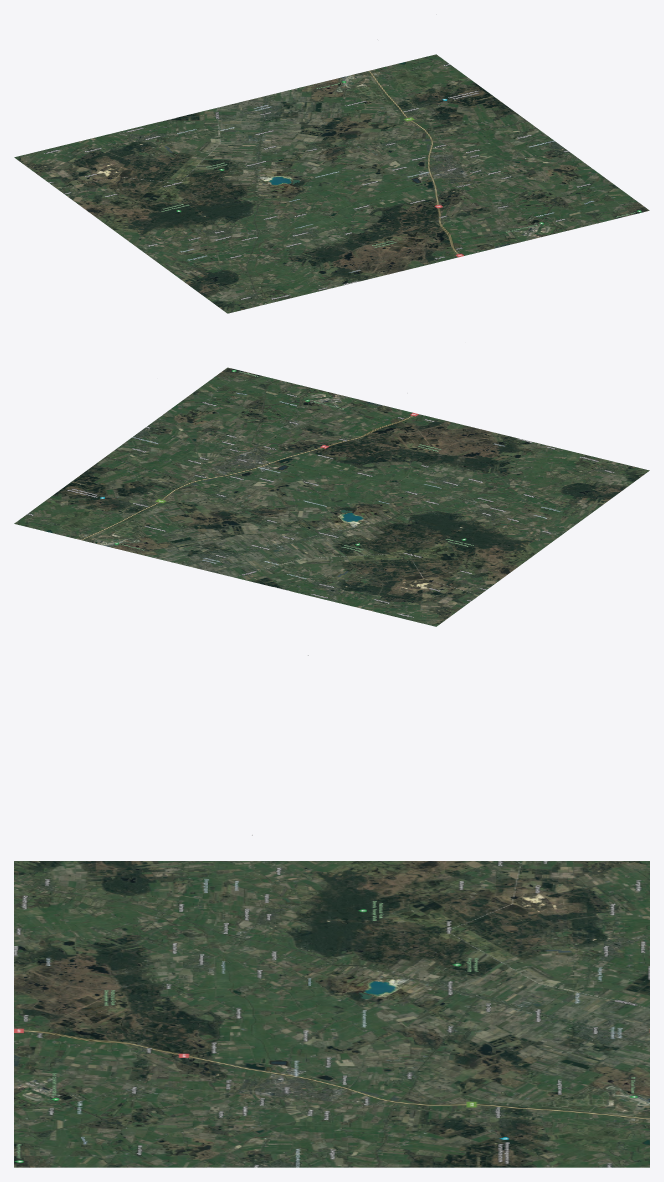
File: lightning_event_19a-1_static_with_annotations.glb
3 renders of one model, top to bottom at view 1: azimuth 30°, elevation 25°; view 2: azimuth 150°, elevation 25°; view 3: azimuth 270°, elevation 25°, orthographic. The views are drawn at different scales.
Visible parts, largest first — view 1: Renderer Node_7; view 2: Renderer Node_7; view 3: Renderer Node_7.
Part boxes in pixels (x1,y1,x2,y2): Renderer Node_7: [14, 54, 649, 313]; Renderer Node_7: [14, 367, 649, 626]; Renderer Node_7: [14, 655, 649, 1167].
Size of the model in its own units: 23.39 by 9.52 by 20.49.
Materials: 5 (5 with a texture image).
